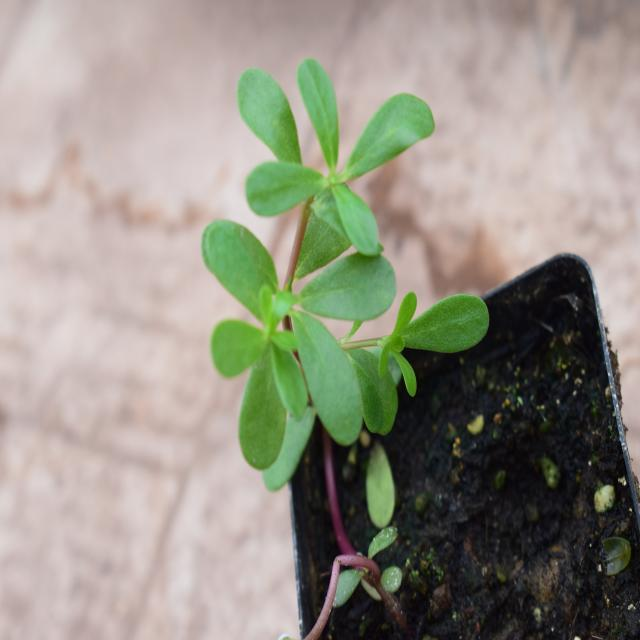purslane: (208, 62, 476, 518)
